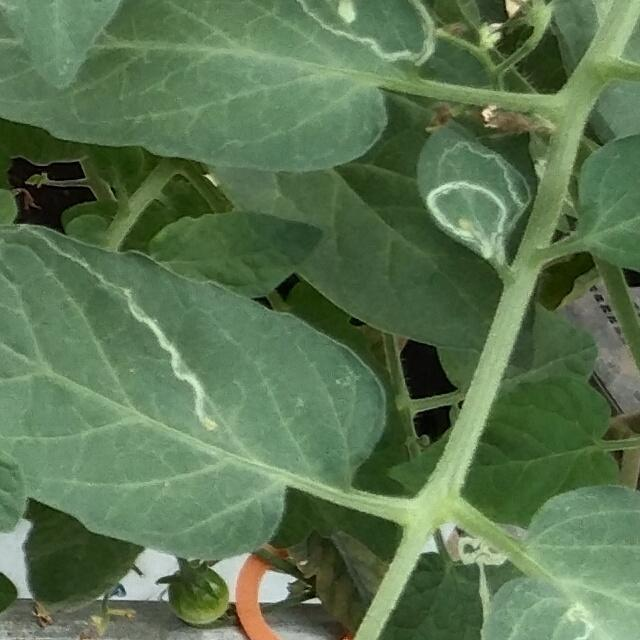Leaf_Miner: (0, 221, 389, 562), (0, 0, 442, 172), (412, 119, 534, 260)
